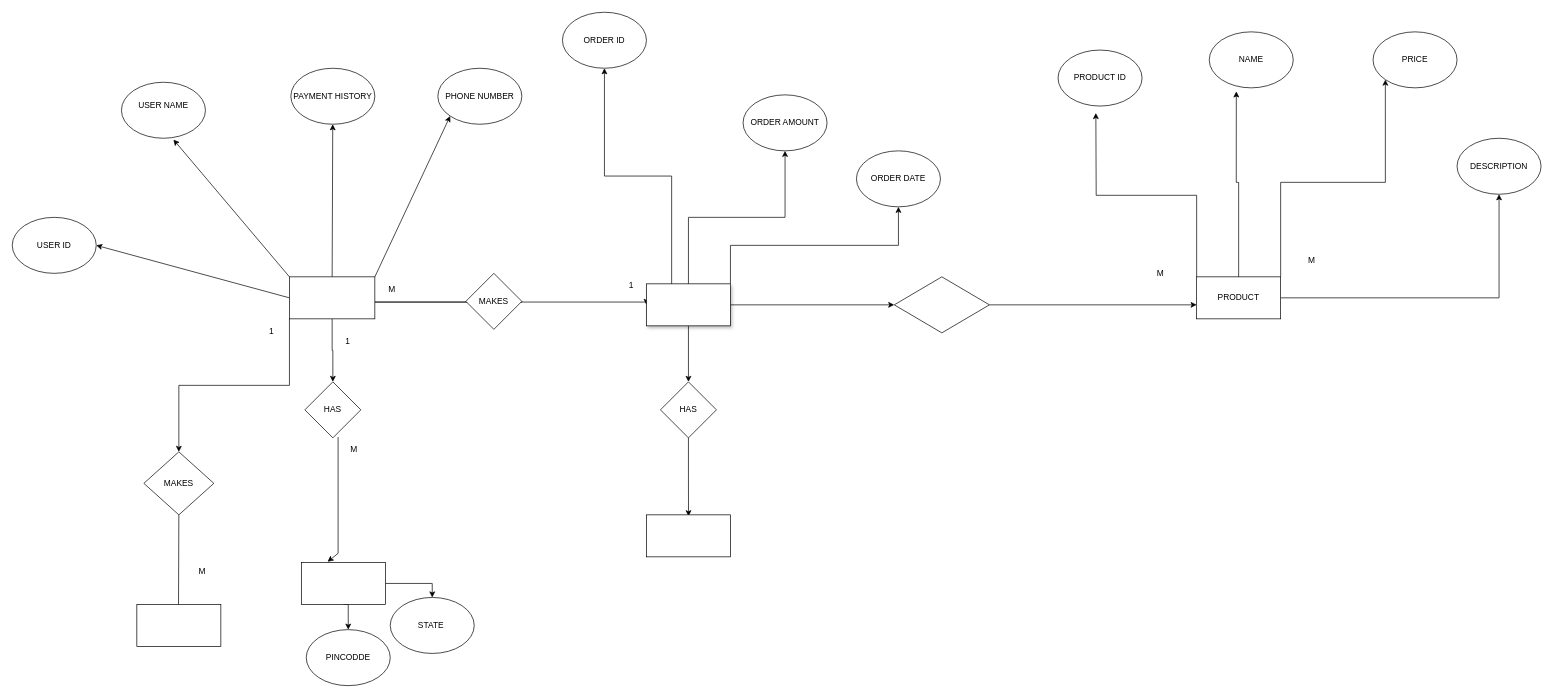
Some shapes in this 1553 by 698 pixel diagram are drawn without their labels. The centre of each missing label's shape, as x and y in pixels:
ADDRESS: [343,583]
CONTAINS: [941,304]
ORDER: [689,305]
PAYMENT: [178,625]
TRACKING DETAIL: [688,535]
USER: [332,297]
